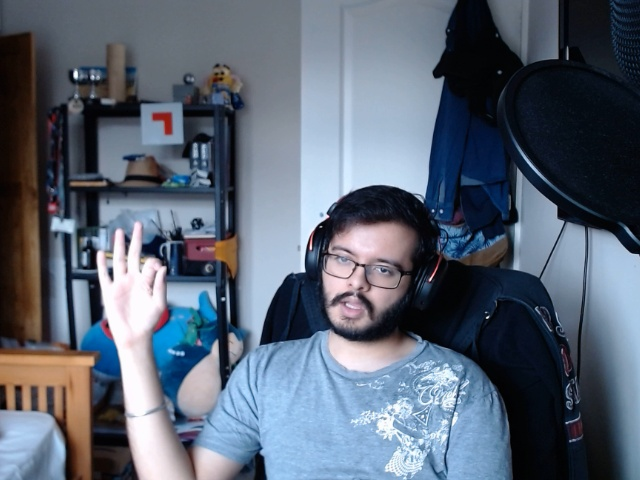Okay: (92, 217, 189, 352)
